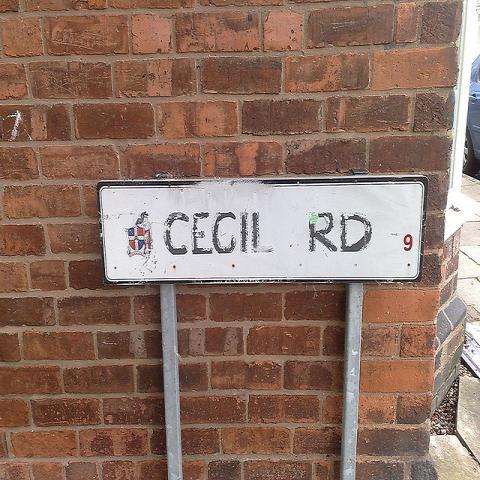car: (462, 53, 479, 181)
